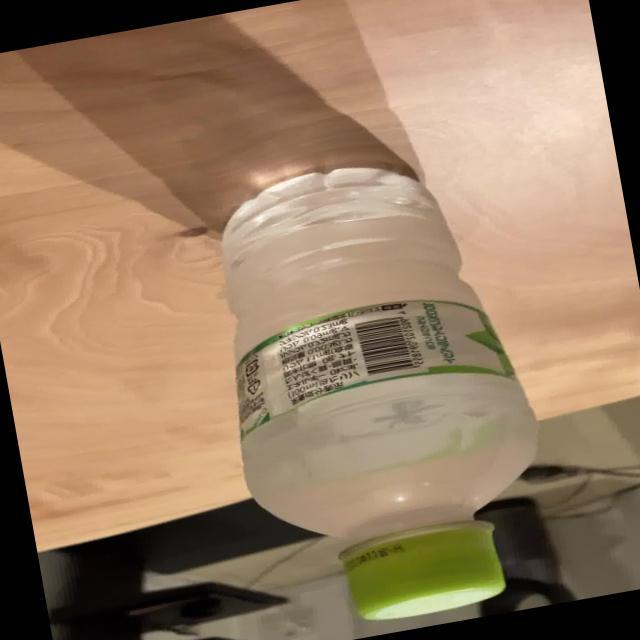good: (187, 136, 570, 640)
